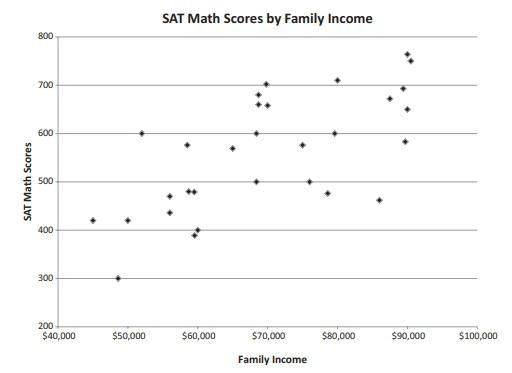axis: (53, 324, 484, 331), (54, 33, 62, 332)
point: (250, 176, 263, 189), (121, 216, 135, 226), (304, 176, 315, 188), (186, 231, 200, 240), (227, 143, 238, 154), (298, 140, 309, 151), (402, 104, 413, 115), (192, 225, 204, 235), (190, 187, 202, 197), (333, 76, 345, 86), (164, 208, 175, 218), (165, 191, 175, 202), (182, 140, 193, 150), (323, 188, 333, 199), (263, 100, 274, 110), (137, 129, 149, 138), (403, 48, 412, 60), (261, 79, 271, 89), (385, 94, 395, 104), (375, 195, 385, 205), (181, 187, 192, 196), (253, 91, 264, 100), (401, 136, 410, 147), (252, 101, 264, 109), (114, 273, 123, 283), (89, 216, 99, 225), (331, 129, 341, 138), (398, 85, 409, 93), (405, 57, 416, 65), (253, 128, 261, 138)
